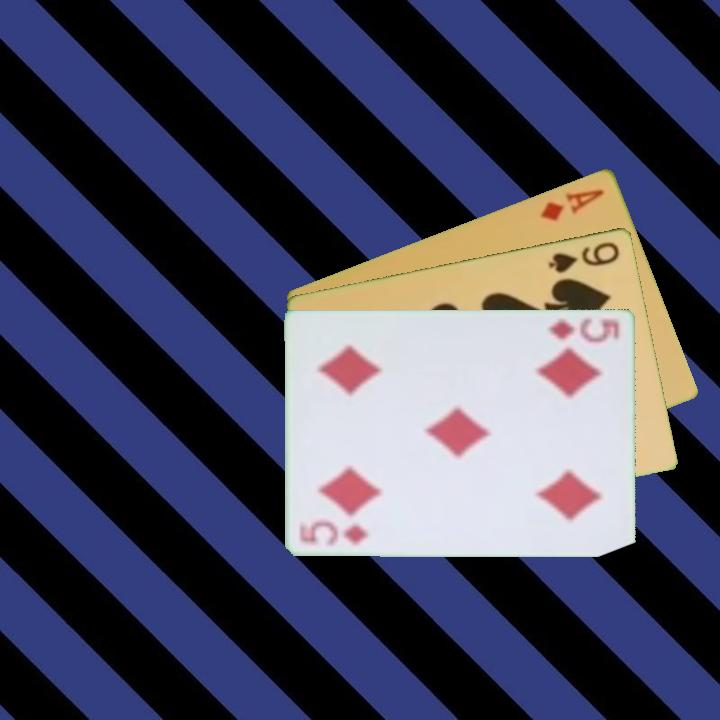5d: (545, 315, 622, 345), (296, 518, 372, 547)
9s: (545, 237, 623, 275)
Ad: (537, 185, 608, 224)
